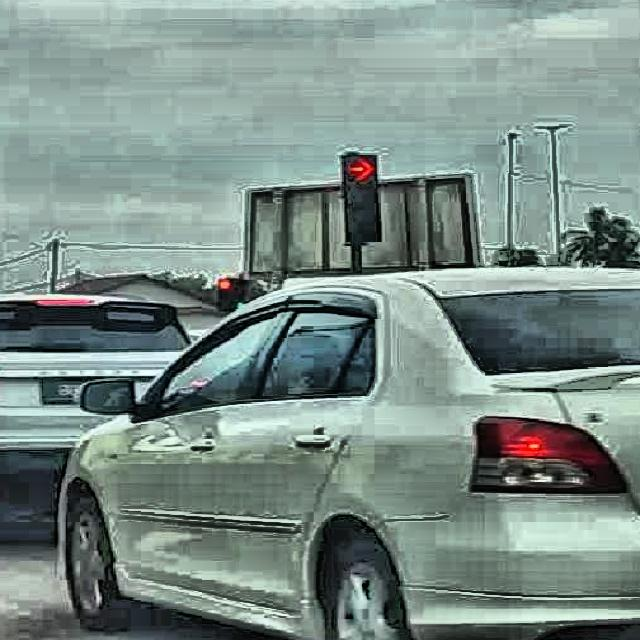red: (340, 152, 385, 242), (218, 279, 238, 310)
